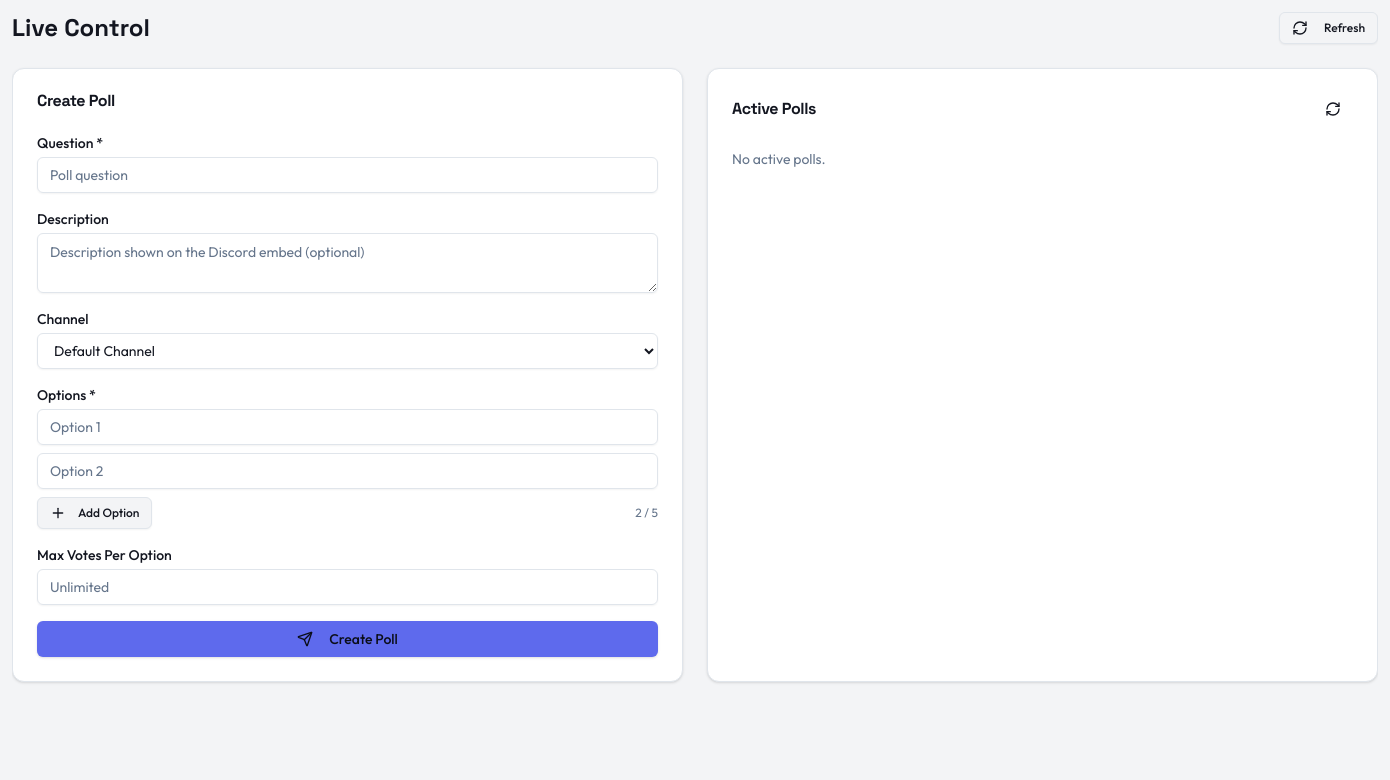
LiveControl › adds and removes poll option fields
Click the button "Add Option": (95, 513) [37,497,152,529]
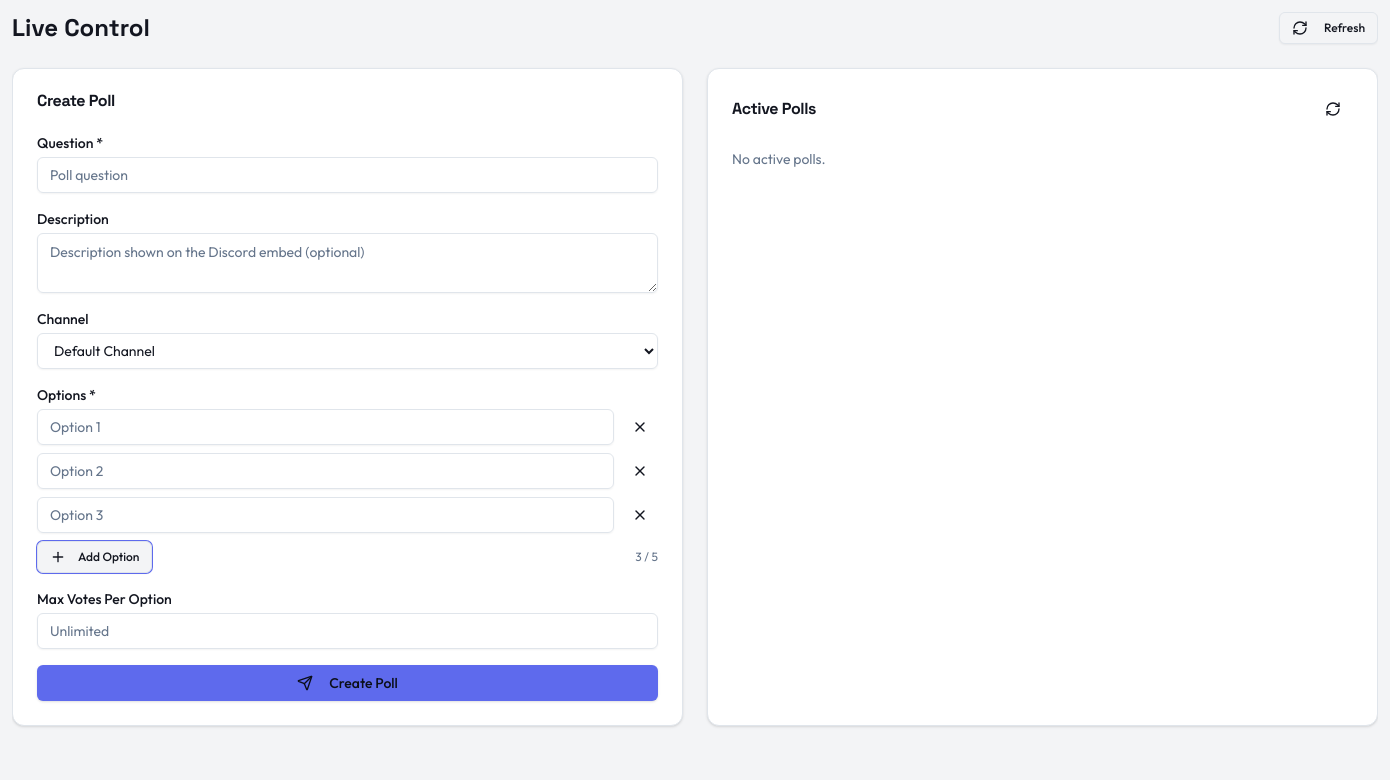
Check: the field with placeholder "Option 3" is shown, box [37,497,614,533]
Check: the text "3 / 5" is shown, box [635,549,658,565]
Remove the third option
Click the button named "Remove option 1": (640, 427) [622,409,658,445]
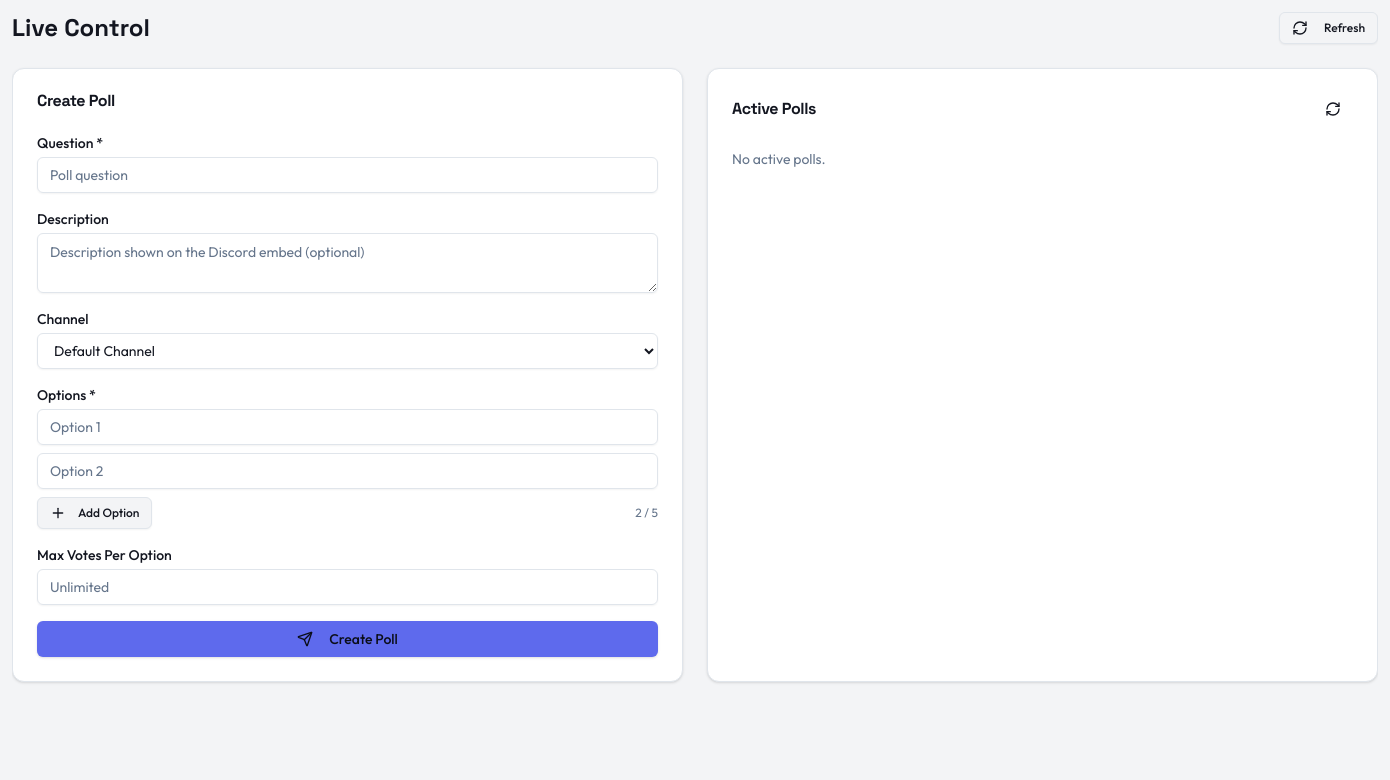
Check: the field with placeholder "Option 3" is gone
